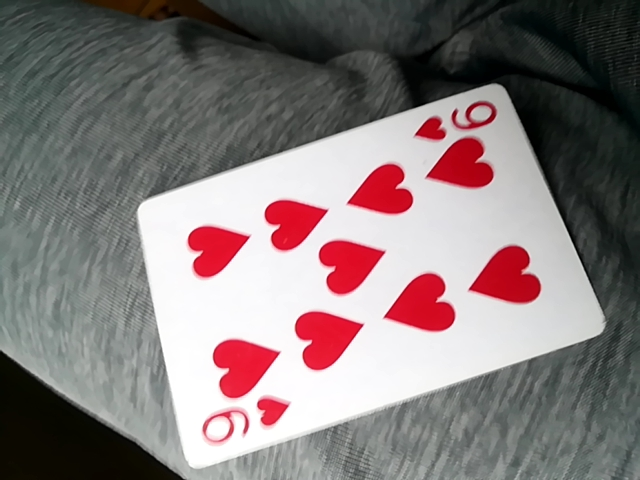hx 9: (136, 80, 606, 468)
